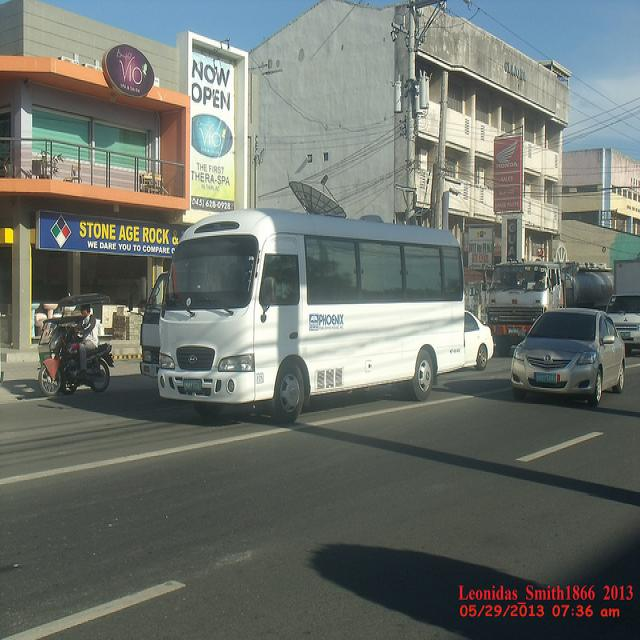motor: (38, 324, 115, 396)
